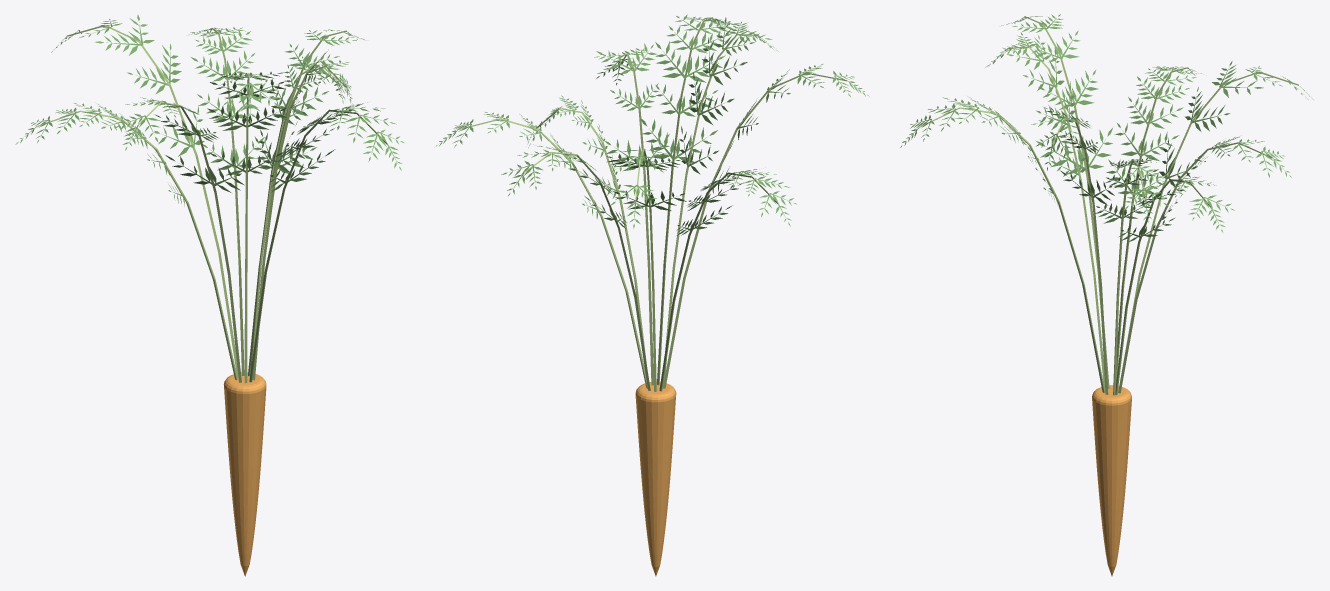
The model's file is carrot_harvest_v06.glb.
3 renders of one model, left to right at view 1: azimuth 30°, elevation 25°; view 2: azimuth 150°, elevation 25°; view 3: azimuth 270°, elevation 25°, orthographic. The views are drawn at different scales.
Parts seen in each view (by area): view 1: plant; view 2: plant; view 3: plant.
Boxes of the visible parts, bbox=[...] form: plant: bbox=[15, 15, 404, 576]; plant: bbox=[436, 14, 869, 576]; plant: bbox=[900, 14, 1313, 576].
Bounding box in the file's own units: 0.3602 × 0.5276 × 0.387.
1 material, 1 textured.
